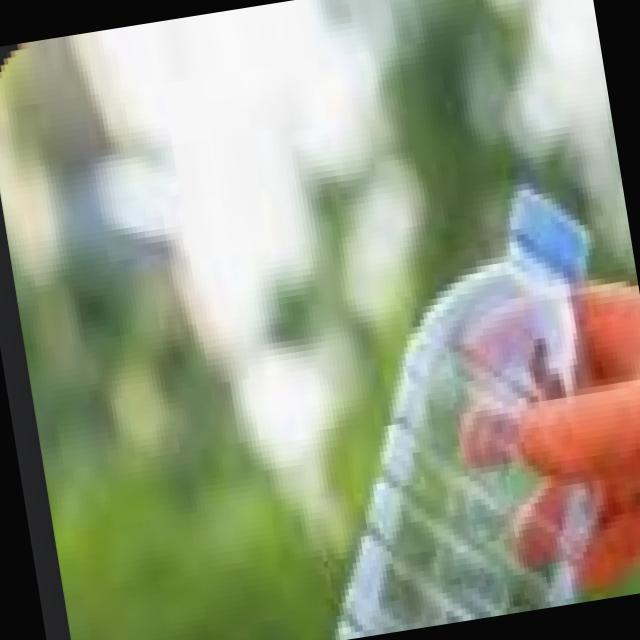Recycle: (265, 172, 640, 640)
